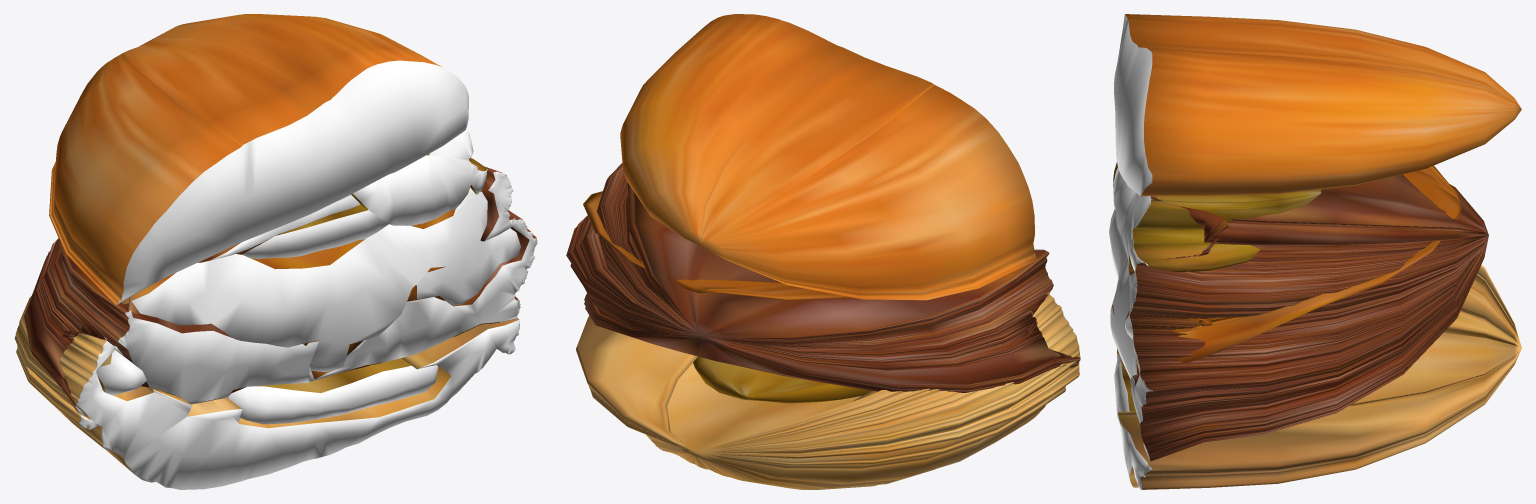
File: classic-smash-burger-triplo.glb
The picture shows the model from 3 angles, left to right: view 1: azimuth 30°, elevation 25°; view 2: azimuth 150°, elevation 25°; view 3: azimuth 270°, elevation 25°; orthographic projection. The views are drawn at different scales.
Parts seen in each view (by area): view 1: ingredient_00_top_bun_solid.006, ingredient_02_melted_cheddar_solid, ingredient_03_triple_smash_solid, ingredient_05_bottom_bun_solid.002, ingredient_01_upper_pickles_solid, ingredient_04_lower_pickles_solid; view 2: ingredient_00_top_bun_solid.006, ingredient_03_triple_smash_solid, ingredient_05_bottom_bun_solid.002, ingredient_04_lower_pickles_solid, ingredient_02_melted_cheddar_solid; view 3: ingredient_03_triple_smash_solid, ingredient_00_top_bun_solid.006, ingredient_05_bottom_bun_solid.002, ingredient_01_upper_pickles_solid, ingredient_02_melted_cheddar_solid, ingredient_04_lower_pickles_solid.
Boxes of the visible parts, x1,y1,x2,y2 form: ingredient_00_top_bun_solid.006: (49,14,468,304); ingredient_02_melted_cheddar_solid: (121,187,520,372); ingredient_03_triple_smash_solid: (24,159,537,417); ingredient_05_bottom_bun_solid.002: (14,294,519,489); ingredient_01_upper_pickles_solid: (242,129,487,258); ingredient_04_lower_pickles_solid: (96,350,438,424); ingredient_00_top_bun_solid.006: (620,14,1038,300); ingredient_03_triple_smash_solid: (566,163,1080,392); ingredient_05_bottom_bun_solid.002: (576,292,1080,489); ingredient_04_lower_pickles_solid: (693,356,870,403); ingredient_02_melted_cheddar_solid: (583,191,1034,300); ingredient_03_triple_smash_solid: (1125,174,1488,461); ingredient_00_top_bun_solid.006: (1114,14,1521,196); ingredient_05_bottom_bun_solid.002: (1117,265,1521,489); ingredient_01_upper_pickles_solid: (1113,162,1321,272); ingredient_02_melted_cheddar_solid: (1109,165,1462,378); ingredient_04_lower_pickles_solid: (1114,353,1135,422).
Size of the model in its own units: 1.85 by 1.47 by 1.25.
